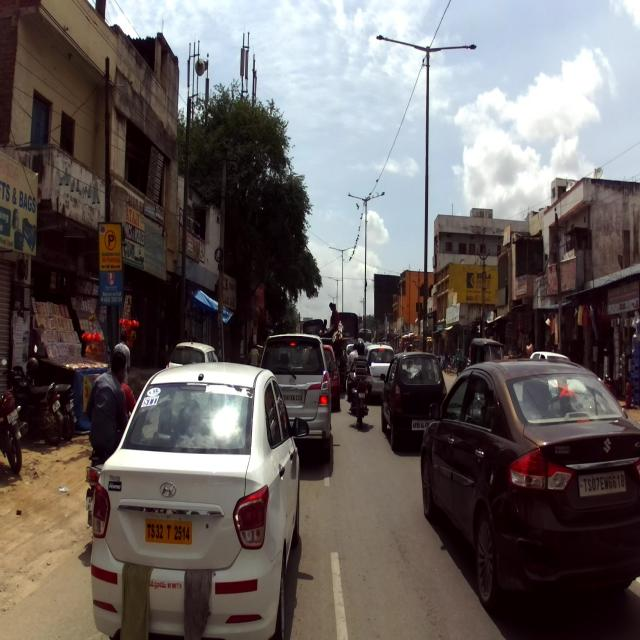car: (90, 362, 309, 640), (420, 357, 640, 614), (260, 331, 338, 461), (379, 351, 447, 451)
